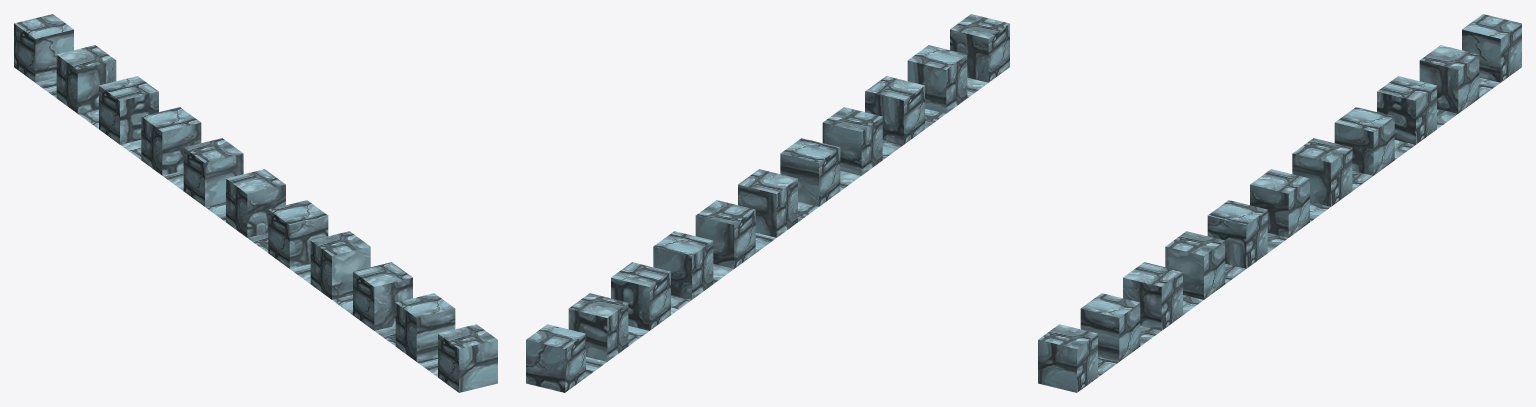
File: fence_big.obj
3 renders of one model, left to right at view 1: azimuth 30°, elevation 25°; view 2: azimuth 150°, elevation 25°; view 3: azimuth 330°, elevation 25°, orthographic.
Parts seen in each view (by area): view 1: Castle_Fence_Long_Plane.003; view 2: Castle_Fence_Long_Plane.003; view 3: Castle_Fence_Long_Plane.003.
Part boxes in pixels (left/top/right/bottom): Castle_Fence_Long_Plane.003: left=14, top=14, right=497, bottom=392; Castle_Fence_Long_Plane.003: left=526, top=14, right=1009, bottom=392; Castle_Fence_Long_Plane.003: left=1038, top=14, right=1521, bottom=392.
Bounding box in the file's own units: 0.5795 × 0.6266 × 11.52.
1 material, 1 textured.
